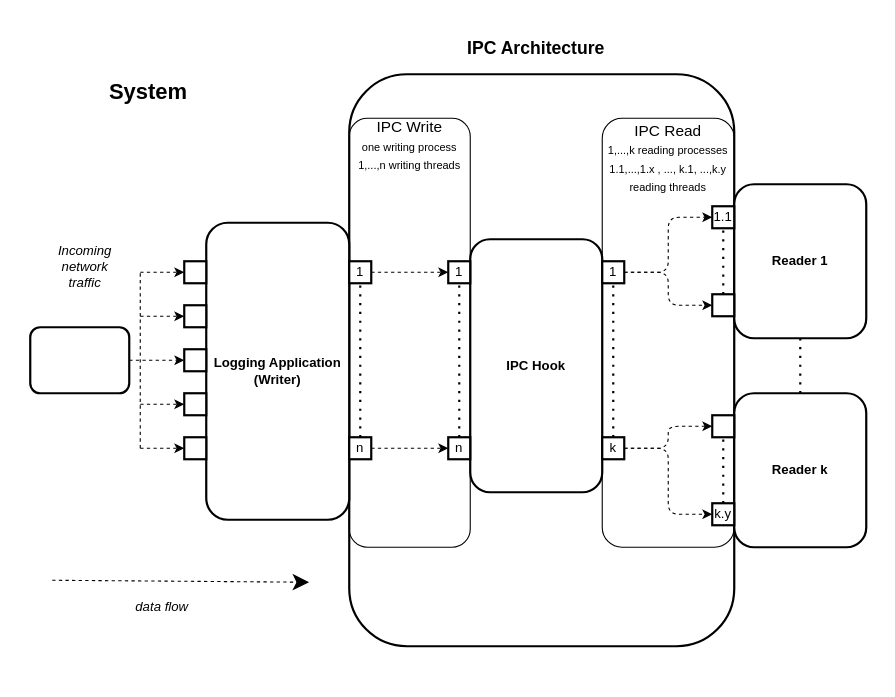
Image size: 895x697. Some labels were removed from this diagram. The shapes that lost their labels are listed below. From the top down, each one's centre as x and y in pixels, then its label:
the point at 723,305: 1.x
the point at 79,360: Network Interface Card
the point at 723,426: k.1
